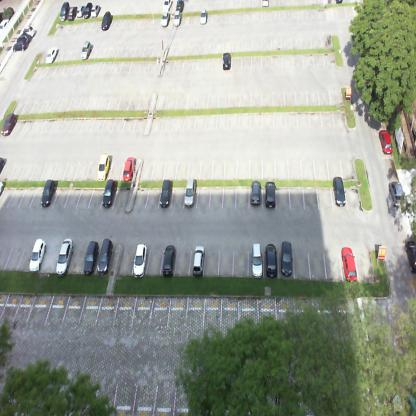car: (28, 237, 48, 274), (53, 241, 72, 273), (82, 240, 100, 273), (340, 241, 356, 278), (278, 244, 295, 278), (160, 241, 177, 274), (188, 242, 204, 276), (263, 243, 279, 277), (156, 178, 172, 211), (132, 240, 148, 273), (100, 178, 116, 210), (96, 244, 113, 274), (248, 240, 263, 274), (388, 178, 405, 208), (378, 124, 393, 157), (40, 179, 58, 206), (330, 179, 345, 208), (1, 112, 17, 139), (262, 178, 276, 208), (96, 154, 112, 180), (122, 155, 138, 180), (184, 179, 196, 210), (249, 179, 261, 209), (405, 238, 415, 274), (45, 44, 60, 64), (81, 39, 93, 62), (59, 0, 70, 22), (101, 10, 112, 30), (222, 51, 232, 70), (199, 7, 209, 25), (172, 10, 182, 28), (13, 40, 28, 51), (90, 3, 100, 19), (67, 5, 78, 19), (160, 10, 169, 27), (22, 24, 36, 34), (162, 0, 172, 13), (84, 2, 92, 18), (76, 3, 83, 20), (17, 34, 31, 42), (176, 0, 184, 10)
